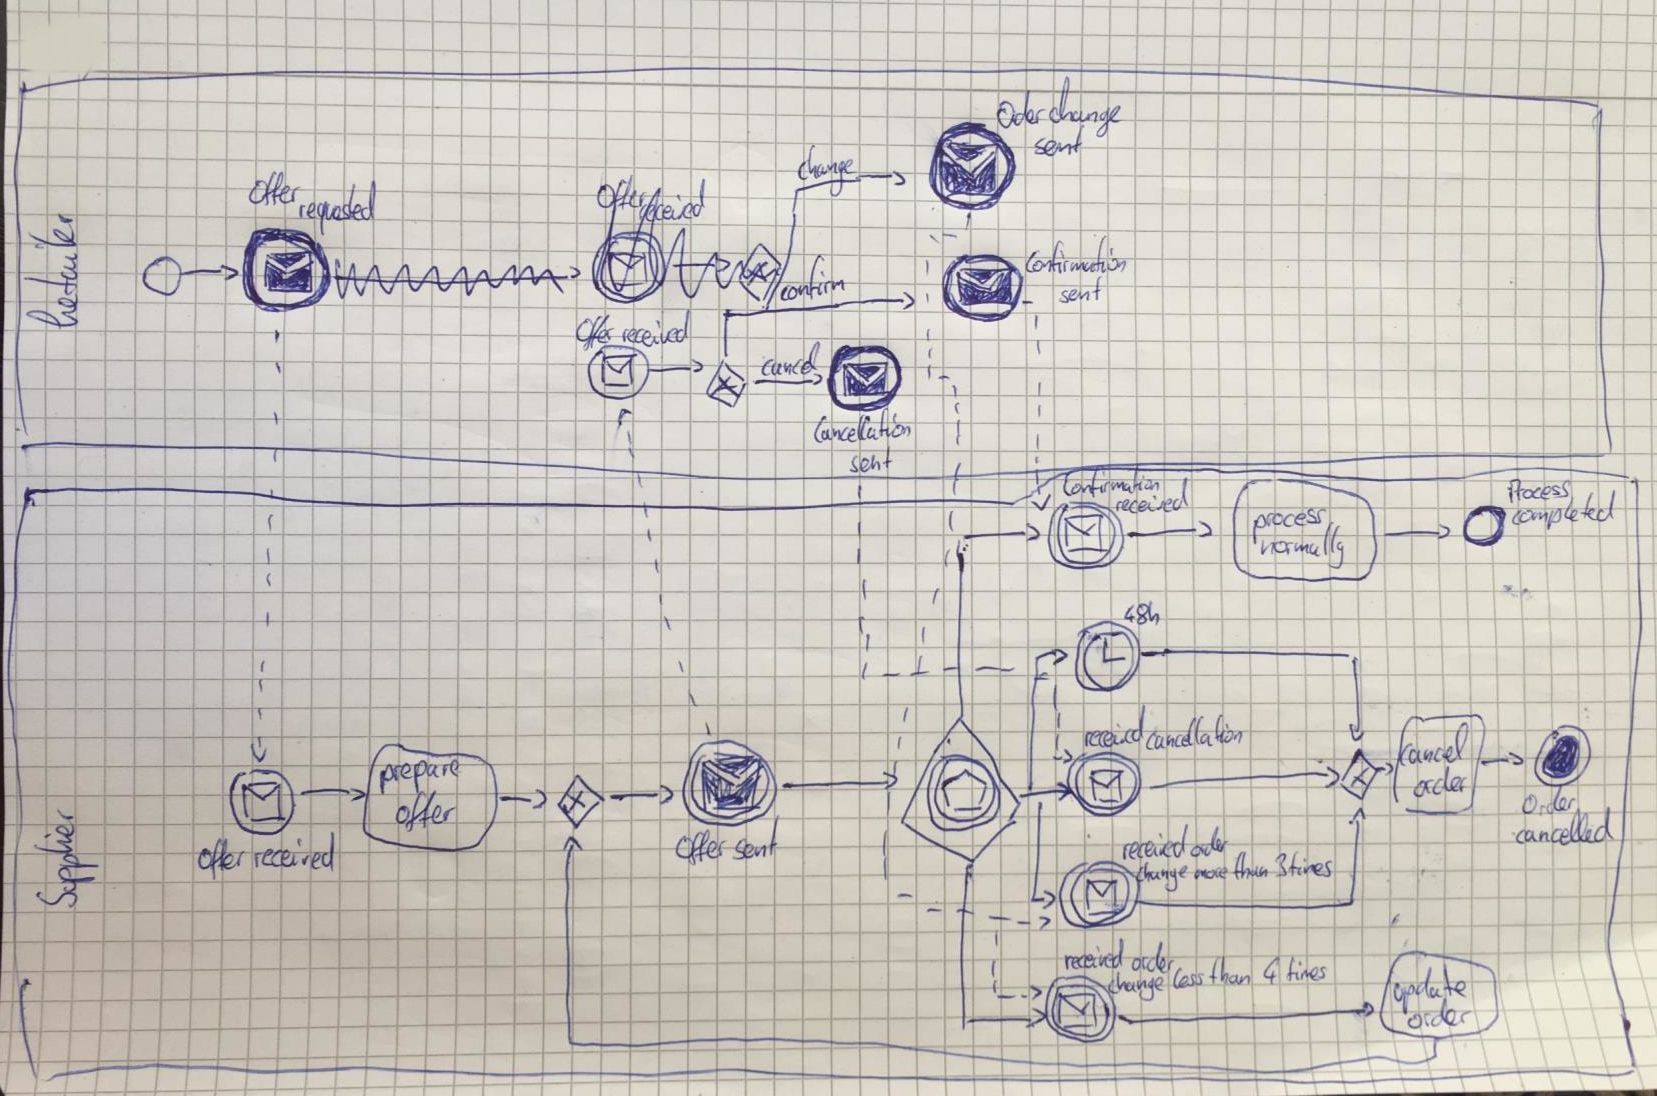3: (1275, 853, 1286, 881)
4: (1261, 954, 1282, 988)
48h: (1126, 601, 1161, 625)
Cancel: (755, 342, 823, 377)
Cancellation: (807, 415, 909, 448)
Confirmation: (1055, 464, 1167, 497), (1022, 245, 1129, 279)
Offer: (245, 169, 304, 210), (572, 313, 615, 349)
Order: (995, 93, 1044, 128), (1522, 789, 1578, 817)
Process: (1502, 478, 1574, 505)
Retailer: (23, 201, 84, 336)
Supplier: (28, 810, 90, 916)
cancel: (1400, 728, 1475, 767)
cancellation: (1140, 716, 1245, 754)
cancelled: (1511, 813, 1619, 849)
change: (1049, 88, 1118, 130), (792, 154, 858, 183), (1112, 966, 1162, 998), (1134, 859, 1190, 887)
completed: (1503, 491, 1625, 537)
confirm: (777, 268, 854, 298)
less: (1168, 961, 1203, 994)
more: (1194, 857, 1224, 886)
normally: (1261, 528, 1351, 565)
offer: (390, 785, 463, 834), (192, 840, 245, 877), (673, 831, 723, 865)
order: (1405, 761, 1470, 801), (1408, 1001, 1471, 1034), (1130, 947, 1176, 975), (1187, 831, 1228, 861)
prepare: (377, 756, 463, 791)
process: (1253, 505, 1327, 536)
received: (251, 843, 338, 876), (618, 316, 687, 349), (1080, 714, 1143, 746), (1061, 944, 1127, 972), (1119, 835, 1184, 864), (1109, 494, 1187, 516)
requested: (289, 190, 378, 221)
sent: (728, 833, 777, 865), (1057, 280, 1105, 306), (1032, 135, 1083, 157), (847, 453, 893, 475)
than: (1205, 958, 1260, 992), (1227, 855, 1272, 884)
times: (1280, 953, 1330, 987), (1289, 853, 1334, 884)
update: (1386, 968, 1467, 1003)
